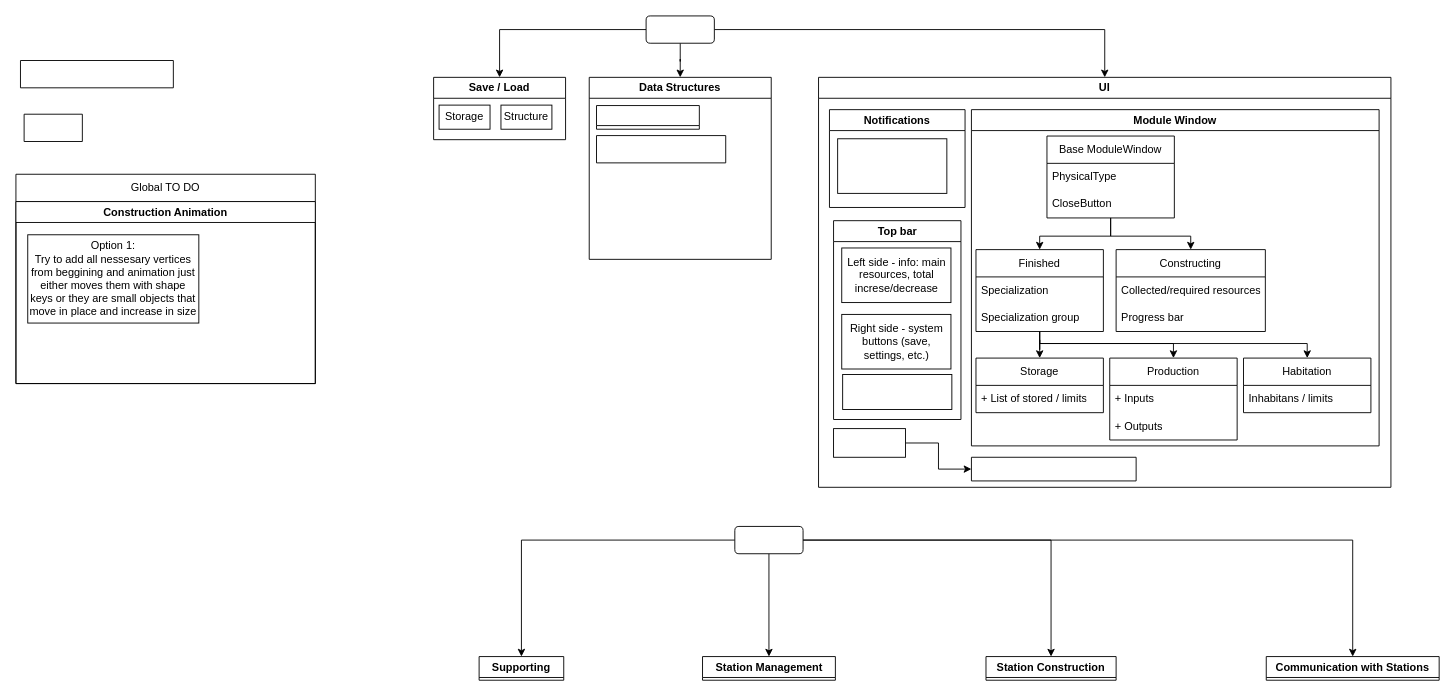
The diagram is 1455 pixels wide and 696 high, and some of its shapes have lost their labels. Here are the shapes that lost their labels. From the top down, the centre of each, then its label:
(x=679, y=29): System
(x=96, y=74): Project folder structure
(x=52, y=127): Ideas
(x=647, y=117): resources.json
(x=661, y=149): blueprints_data.json
(x=892, y=165): Appear as a stack at the corner of the screen
(x=897, y=392): date/time - either center of right
(x=869, y=442): Construction mode button
(x=1053, y=468): Blueprint Selection Window
(x=768, y=540): Mechanics
